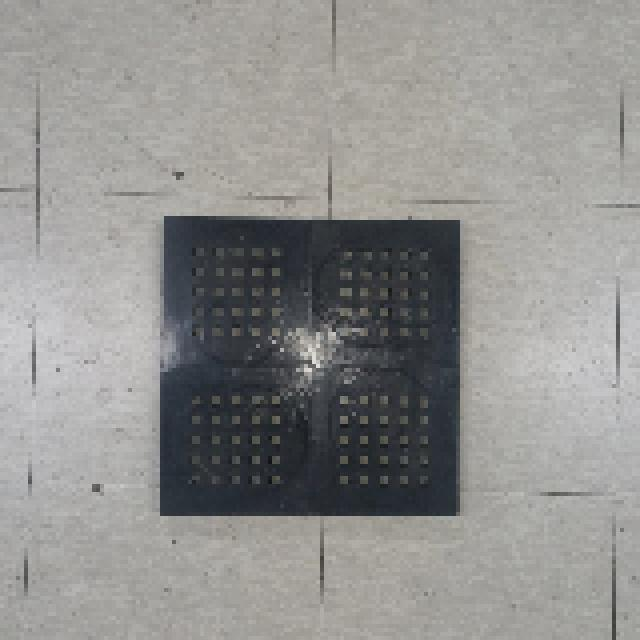pallet: (154, 210, 468, 524)
